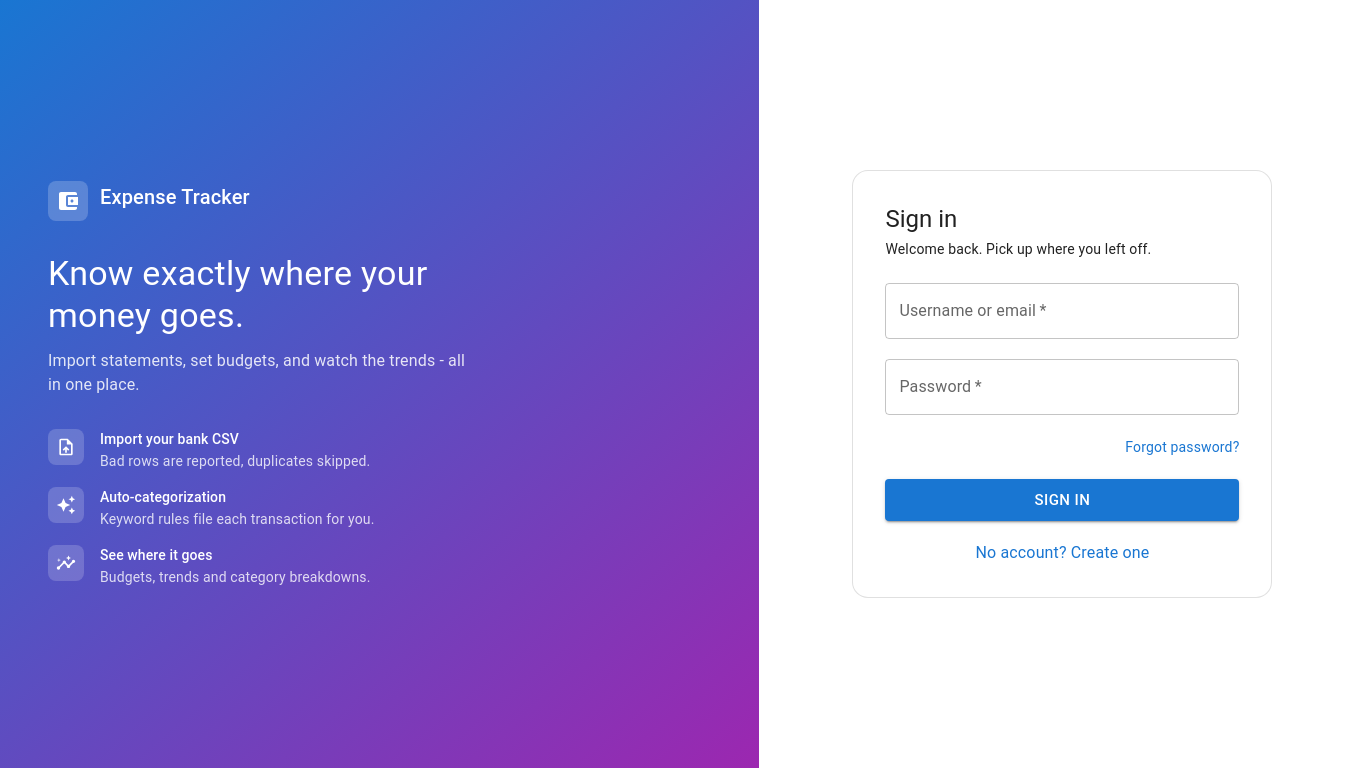
Scenario: Login › shows the server message and keeps the user signed out when login fails
This screenshot has width=1366, height=768.
Type "a@test.com" into the field labelled "Username or email *" at (1062, 311), box x1=885 y1=283 x2=1239 y2=339
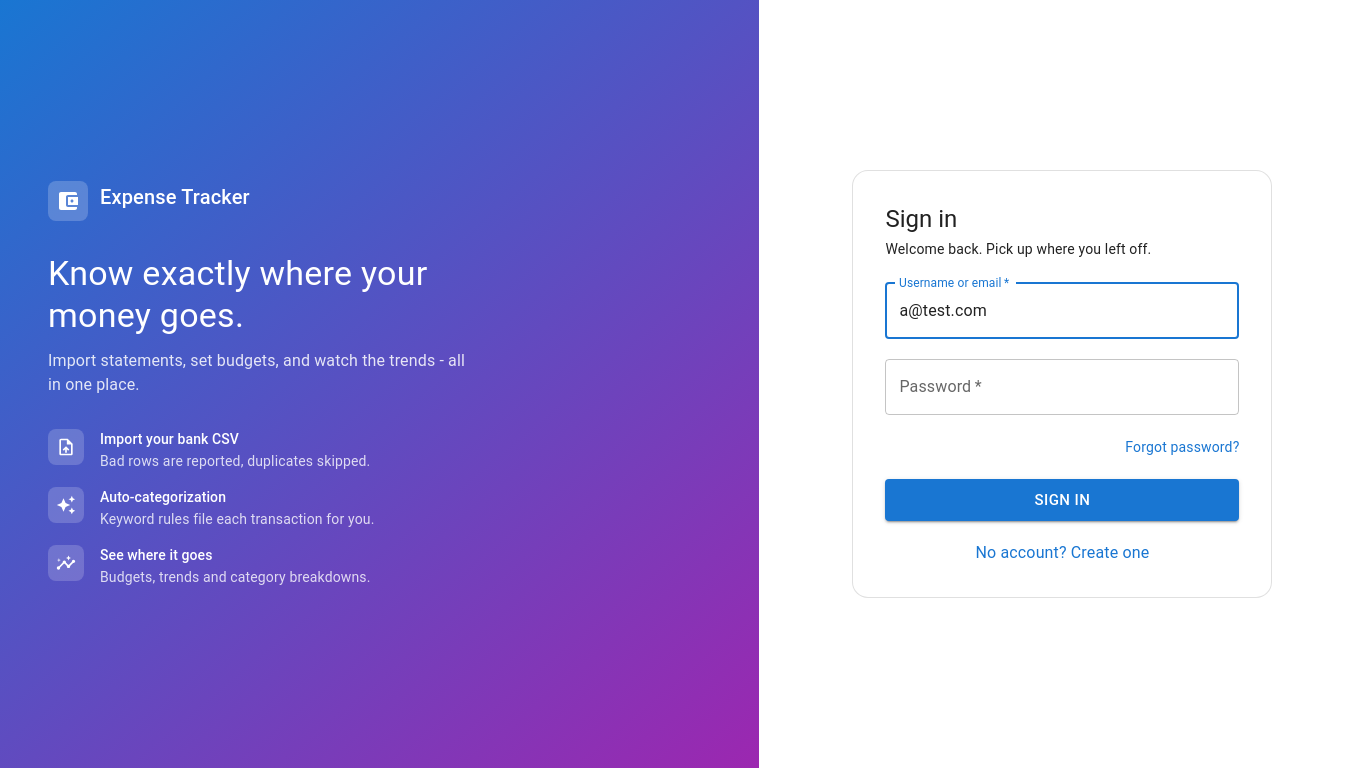
Type "wrong-password" into the password field labelled "Password *" at (1062, 387), box x1=885 y1=359 x2=1239 y2=415
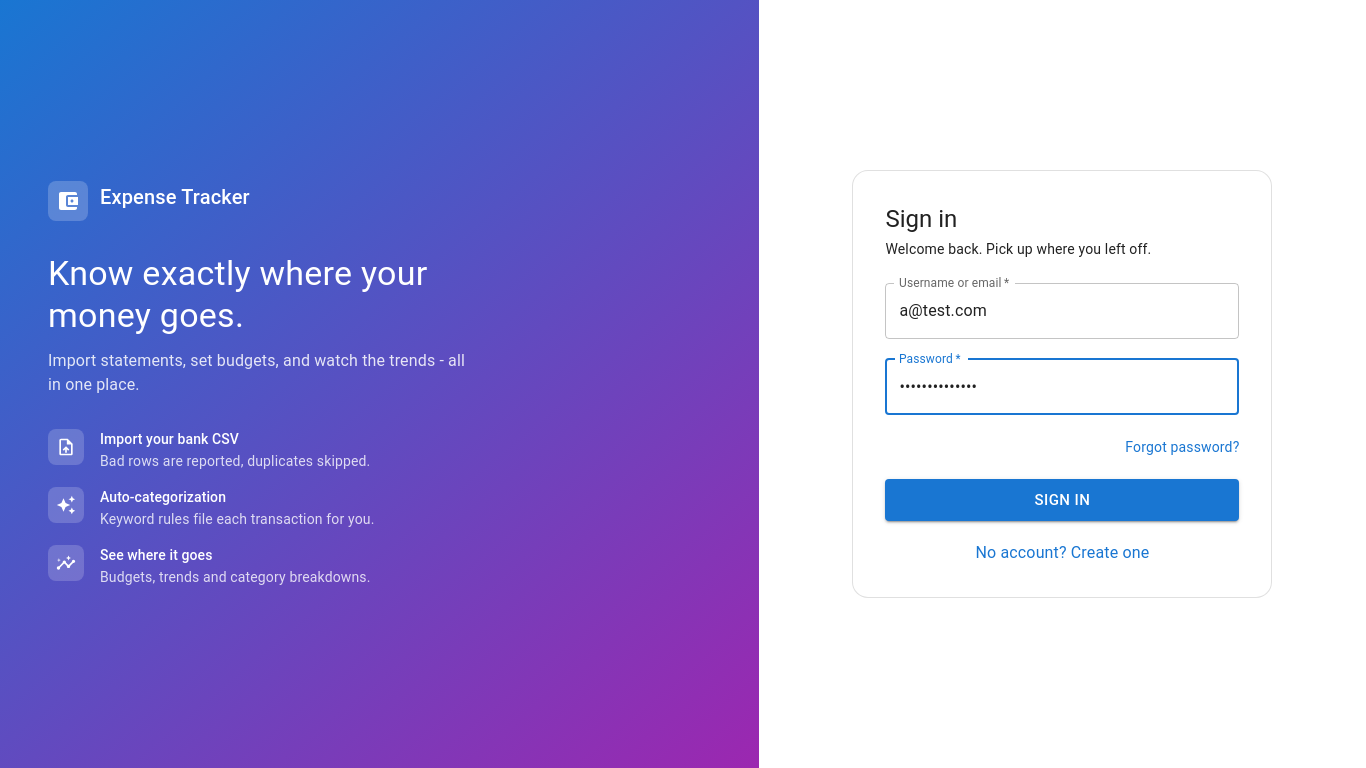
Click the button "Sign in" at (1062, 500), box x1=885 y1=479 x2=1239 y2=521
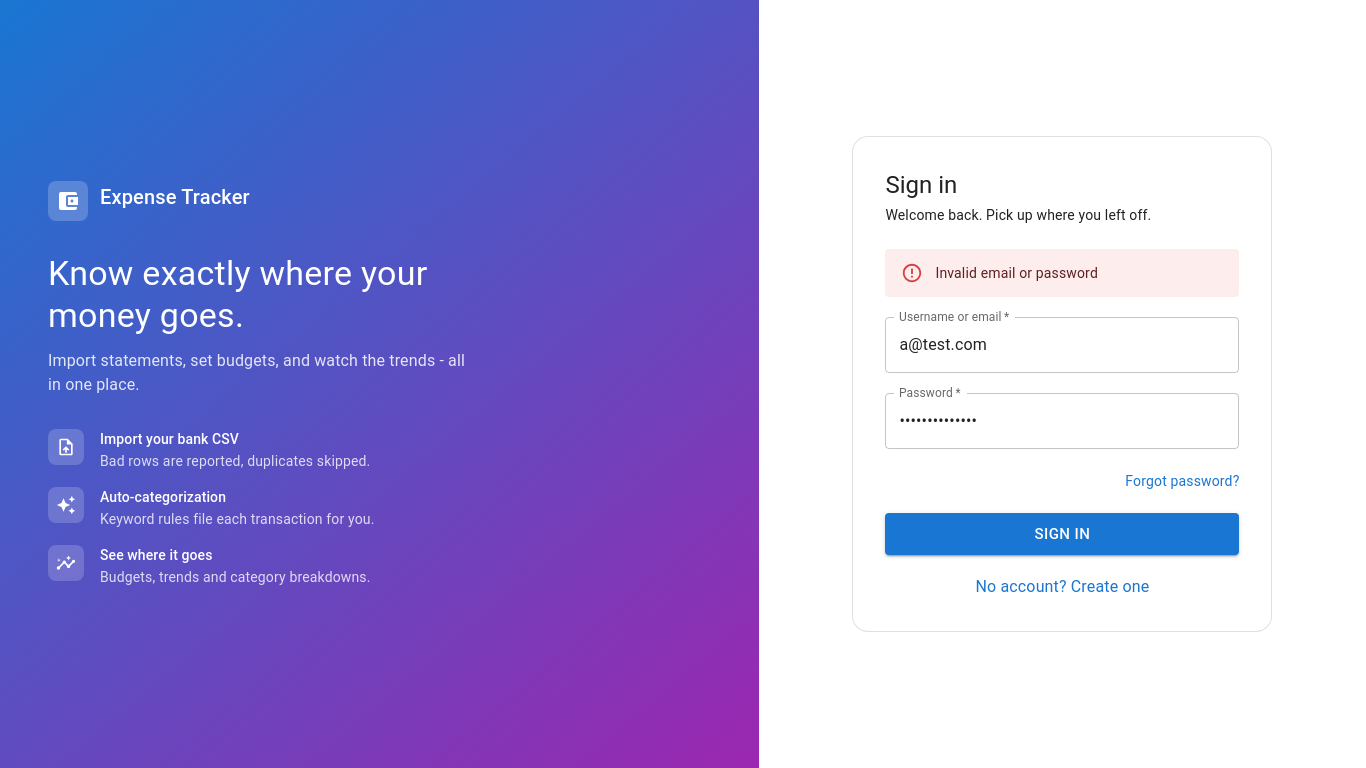
Result: the text "Invalid email or password" is shown at x1=935 y1=265 x2=1098 y2=281
